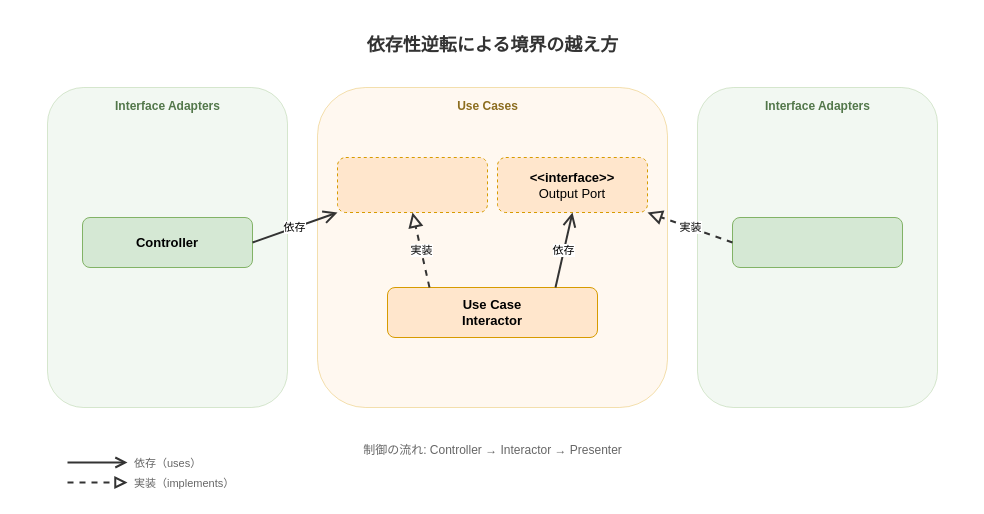
This 984x514 diagram has some shape labels left out. Here are the shapes that lost their labels. From the top down, the centre of each, then its label:
At point (412, 184): "<<interface>> Input Port".
At point (817, 242): "Presenter".
